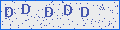D: (81, 7, 89, 17), (64, 5, 72, 15), (45, 7, 53, 17), (22, 4, 30, 14), (5, 7, 12, 17)
